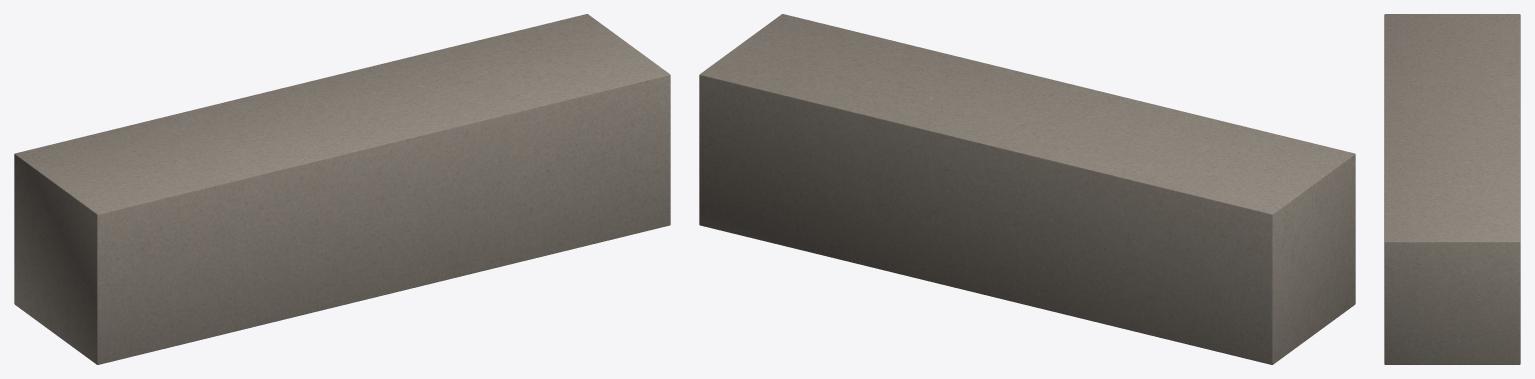
Rendered from TestBlock2.glb.
3 renders of one model, left to right at view 1: azimuth 30°, elevation 25°; view 2: azimuth 150°, elevation 25°; view 3: azimuth 270°, elevation 25°, orthographic. The views are drawn at different scales.
Visible parts, largest first — view 1: SM_0_Retaining_wall_Block_LP; view 2: SM_0_Retaining_wall_Block_LP; view 3: SM_0_Retaining_wall_Block_LP.
Boxes of the visible parts, left/top/right/bottom form: SM_0_Retaining_wall_Block_LP: left=14, top=14, right=670, bottom=364; SM_0_Retaining_wall_Block_LP: left=699, top=14, right=1355, bottom=364; SM_0_Retaining_wall_Block_LP: left=1384, top=14, right=1520, bottom=364.
Bounding box in the file's own units: 2.38 × 0.6 × 0.6.
1 material, 1 textured.
